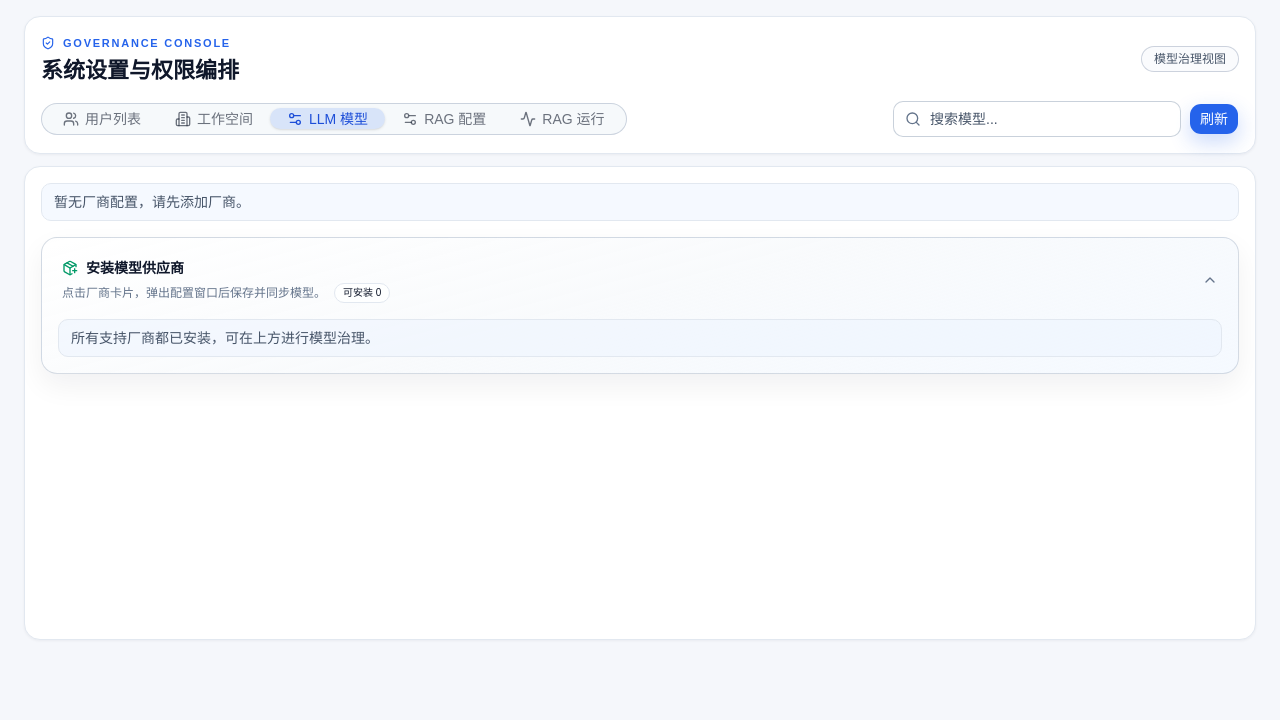
Test: SettingsPage governance visibility › shows foundation summary on rag tab
Expected: the tab "用户列表" is shown, x1=46 y1=108 x2=158 y2=129
What coordinates should you click on to do the following:
click the tab "RAG 运行"
I would click on:
 (562, 119)
Its box is x1=503 y1=108 x2=622 y2=129.
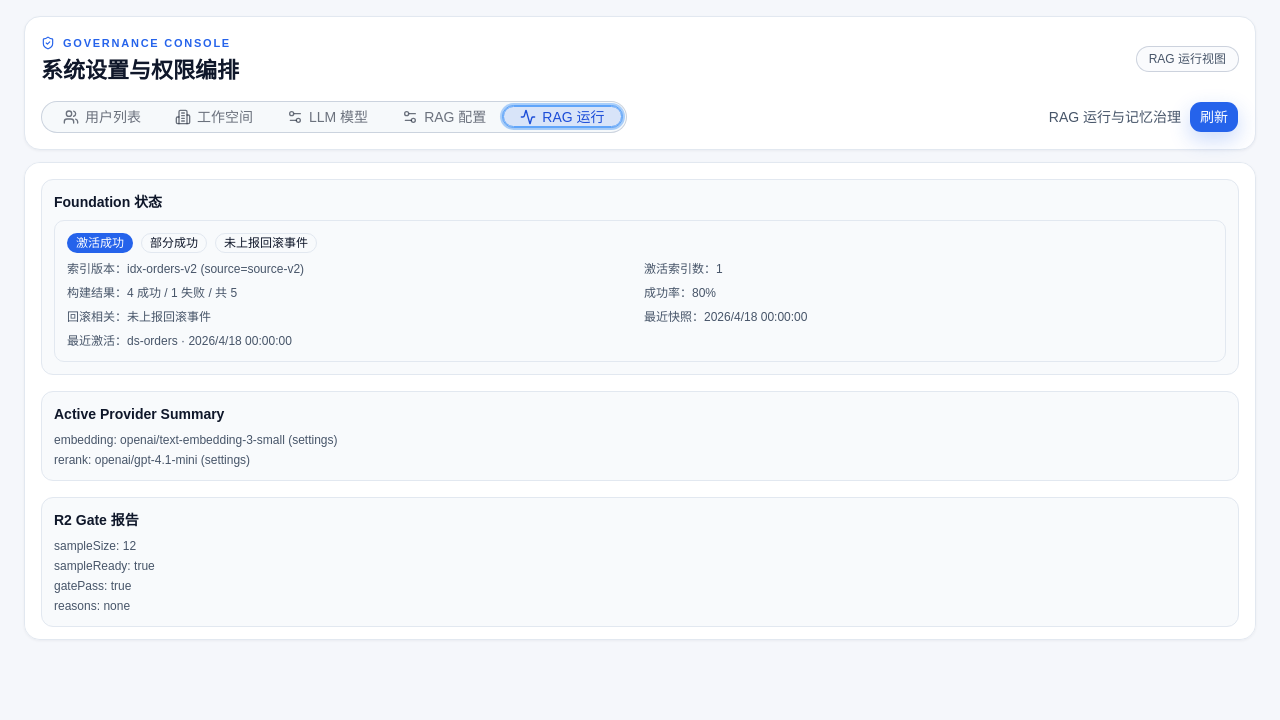
Now the heading "Foundation 状态" is shown, box x1=54 y1=194 x2=162 y2=210
Now the text "激活成功" is shown, box x1=67 y1=233 x2=133 y2=253
Now the text "索引版本：idx-orders-v2 (source=source-v2)" is shown, box x1=67 y1=262 x2=304 y2=276
